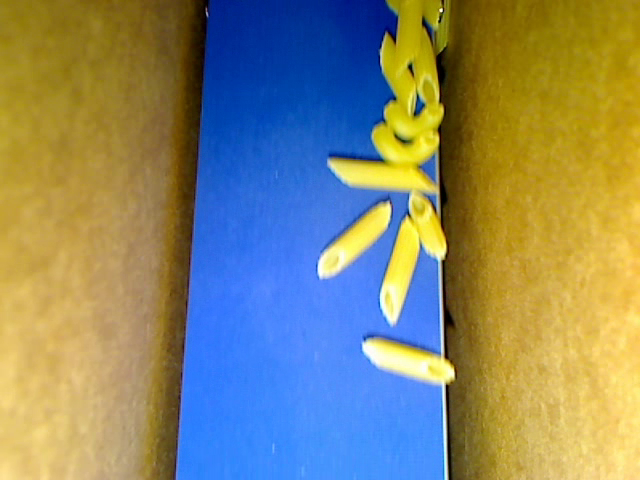elbow: (373, 117, 438, 172), (379, 99, 446, 138)
penne: (316, 194, 393, 277), (361, 334, 457, 386), (324, 157, 443, 195), (381, 213, 419, 327), (407, 188, 449, 264), (379, 33, 414, 112), (389, 1, 419, 82), (409, 26, 437, 107), (437, 1, 449, 55)
